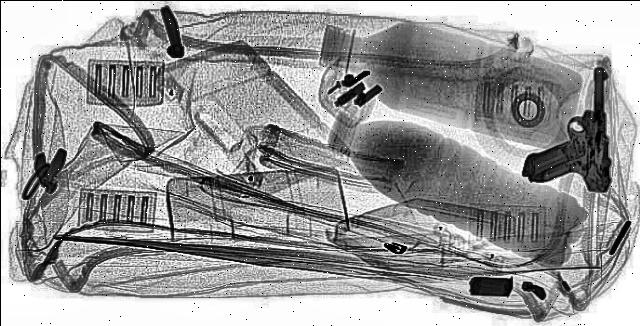Gun: (526, 62, 616, 188)
